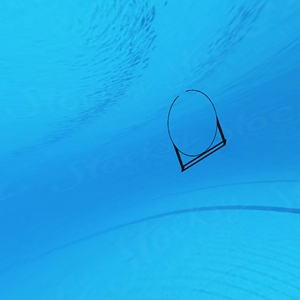circle: (165, 86, 231, 175)
